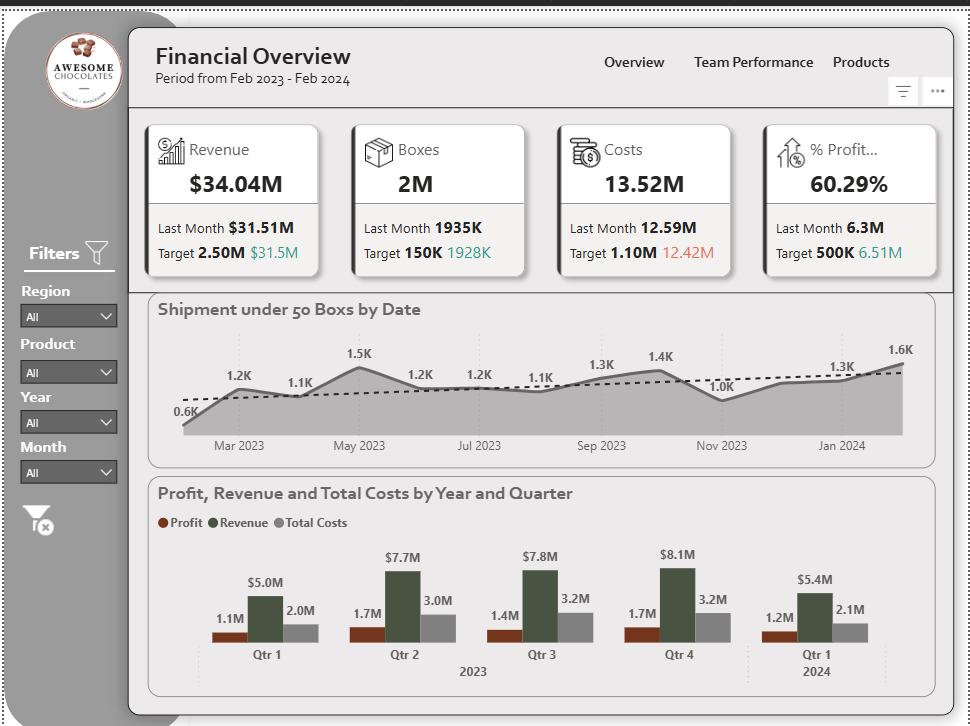

What the dashboard file says about the page in this screenshot:
{"tool":"powerbi","page":{"name":"Overview","canvas":[960,720],"ordinal":0},"visuals":[{"type":"shape","box":[0,0,183,720.6],"z":0},{"type":"shape","box":[123.1,16.2,822.6,684.9],"z":1000},{"type":"image","box":[35.6,16.2,87.4,87.4],"z":2000},{"type":"textbox","box":[19.4,223.5,72.9,35.6],"z":3000},{"type":"image","box":[74.5,215.4,35.6,51.8],"z":4000},{"type":"shape","box":[19.4,242.9,90.7,32.4],"z":5000},{"type":"slicer","fields":{"Values":["locations.Region"]},"box":[6.5,281.7,116.6,51.8],"z":6000},{"type":"slicer","fields":{"Values":["products.Product"]},"box":[6.5,336.8,116.6,50.2],"z":7000},{"type":"slicer","fields":{"Values":["calendar.Date.Variation.Date Hierarchy.Year"]},"box":[6.5,387,116.6,50.2],"z":8000},{"type":"textbox","box":[11.3,369.2,72.9,35.6],"z":9000},{"type":"textbox","box":[11.3,315.7,72.9,35.6],"z":10000},{"type":"textbox","box":[13,263.9,72.9,35.6],"z":11000},{"type":"textbox","box":[145.7,24.3,218.6,51.8],"z":12000},{"type":"textbox","box":[145.7,51.8,242.9,51.8],"z":13000},{"type":"cardVisual","fields":{"Data":["calendar.Revenue","calendar.#Boxes","calendar.Total Costs","calendar.% Profit Margins"]},"box":[123.1,95.5,822.6,186.2],"z":14000},{"type":"slicer","fields":{"Values":["calendar.Date.Variation.Date Hierarchy.Month"]},"box":[6.5,437.2,116.6,51.8],"z":15000},{"type":"textbox","box":[11.3,419.4,72.9,35.6],"z":16000},{"type":"lineChart","title":"Shipment under 50 Boxs by Date","fields":{"Category":["calendar.Date.Variation.Date Hierarchy.Year","calendar.Date.Variation.Date Hierarchy.Quarter","calendar.Date.Variation.Date Hierarchy.Month"],"Y":["Comparsions.Shipment under 50 Boxs"]},"box":[142.5,280.1,783.7,174.9],"z":17000},{"type":"clusteredColumnChart","fields":{"Category":["calendar.Date.Variation.Date Hierarchy.Year","calendar.Date.Variation.Date Hierarchy.Quarter"],"Y":["calendar.Profit","calendar.Revenue","calendar.Total Costs"]},"box":[142.5,463.1,783.7,220.2],"z":18000},{"type":"image","box":[8.6,483,47.7,44],"z":19000},{"type":"actionButton","box":[6.1,483,68.5,52.6],"z":20000},{"type":"textbox","box":[591.9,35.5,80.7,33],"z":21000},{"type":"textbox","box":[681.1,35.5,138.2,33],"z":22000},{"type":"actionButton","box":[681.1,22,138.2,53.8],"z":23000},{"type":"textbox","box":[819.3,35.5,80.7,33],"z":24000},{"type":"actionButton","box":[819.3,25.9,81,53.4],"z":25000}]}

Visuals, with their boxes in screenshot pixels (x1, y1, x2, y2), scaled from the page's 960x720 canvas onto the 970x726 screenshot:
shape: crop(0, 0, 185, 725)
shape: crop(124, 16, 956, 707)
image: crop(36, 16, 124, 104)
textbox: crop(20, 225, 93, 261)
image: crop(75, 217, 111, 269)
shape: crop(20, 245, 111, 278)
slicer - locations.Region: crop(7, 284, 124, 336)
slicer - products.Product: crop(7, 340, 124, 390)
slicer - calendar.Date.Variation.Date Hierarchy.Year: crop(7, 390, 124, 441)
textbox: crop(11, 372, 85, 408)
textbox: crop(11, 318, 85, 354)
textbox: crop(13, 266, 87, 302)
textbox: crop(147, 25, 368, 77)
textbox: crop(147, 52, 393, 104)
cardVisual - calendar.Revenue x calendar.#Boxes: crop(124, 96, 956, 284)
slicer - calendar.Date.Variation.Date Hierarchy.Month: crop(7, 441, 124, 493)
textbox: crop(11, 423, 85, 459)
"Shipment under 50 Boxs by Date" lineChart: crop(144, 282, 936, 459)
clusteredColumnChart - calendar.Date.Variation.Date Hierarchy.Year x calendar.Date.Variation.Date Hierarchy.Quarter: crop(144, 467, 936, 689)
image: crop(9, 487, 57, 531)
actionButton: crop(6, 487, 75, 540)
textbox: crop(598, 36, 680, 69)
textbox: crop(688, 36, 828, 69)
actionButton: crop(688, 22, 828, 76)
textbox: crop(828, 36, 909, 69)
actionButton: crop(828, 26, 910, 80)
